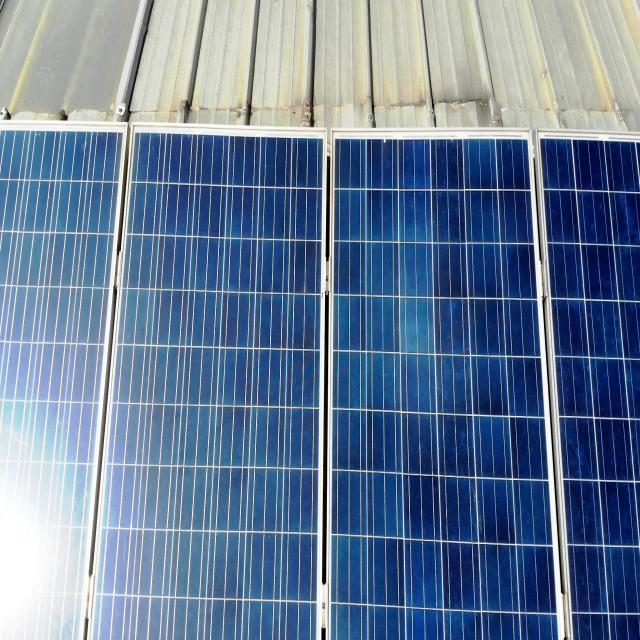no faulty: (88, 126, 328, 640), (323, 133, 561, 640)
